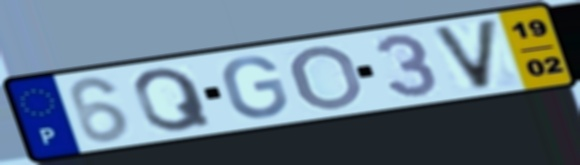3: (371, 32, 441, 102)
6: (64, 73, 136, 145)
G: (220, 54, 292, 120)
O: (289, 43, 368, 112)
Q: (130, 65, 217, 134)
V: (427, 16, 501, 93)
